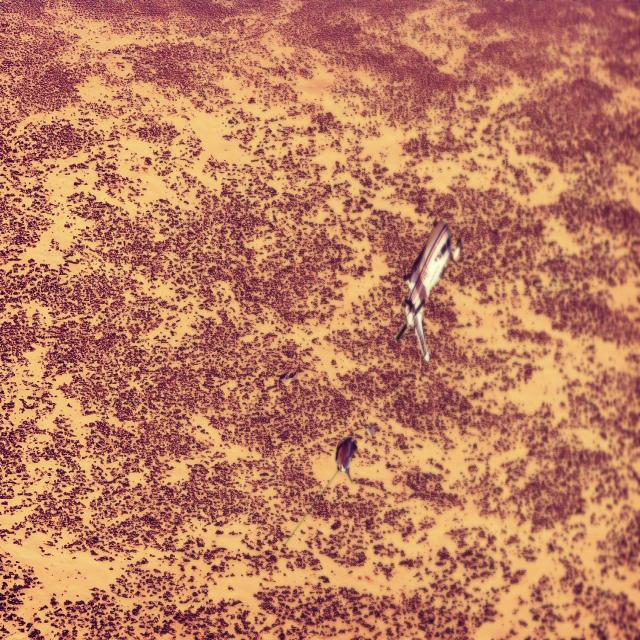airplane: (395, 218, 461, 363), (283, 436, 357, 546)
